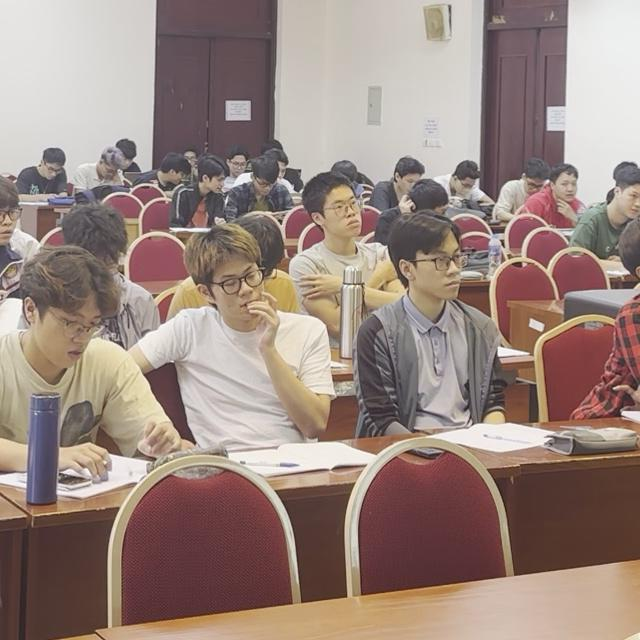Looking away: (33, 292, 99, 368), (213, 253, 266, 323), (453, 167, 476, 195), (253, 169, 276, 196), (201, 168, 224, 193), (228, 152, 245, 176), (98, 158, 118, 178)
Looking forward: (406, 228, 464, 302), (320, 183, 364, 238), (554, 169, 578, 204)
Phone use: (13, 147, 69, 206)
